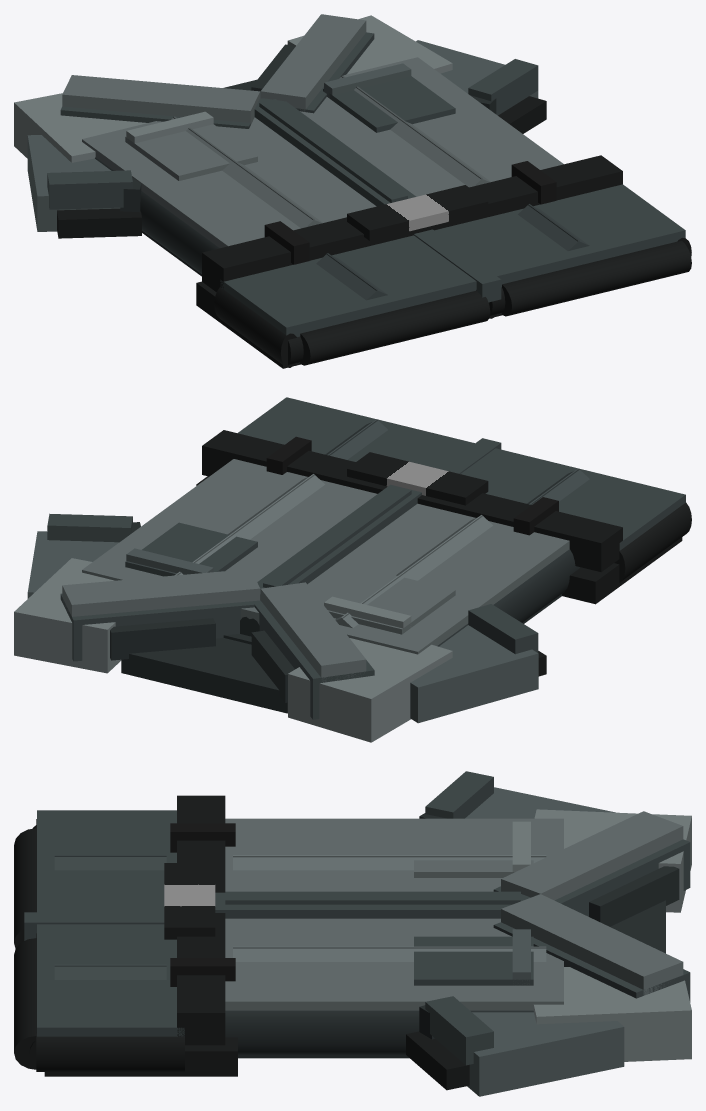
Rendered from CMU3DAU14CivilianBoilerSuitCyanWorldCloud.glb.
The picture shows the model from 3 angles, top to bottom: view 1: azimuth 30°, elevation 25°; view 2: azimuth 150°, elevation 25°; view 3: azimuth 270°, elevation 25°; orthographic projection. The views are drawn at different scales.
Visible parts, largest first — view 1: left shirt front continuous cloth panel, left folded trouser panel continuous cloth panel, right shirt front continuous cloth panel, right folded trouser panel continuous cloth panel, continuous attached waist belt, right turned trouser hem, left turned trouser hem, left turned collar face, right turned collar face, original small waist clasp, left continuous shoulder cloth, left flat chest pocket cloth (+25 smaller); view 2: left shirt front continuous cloth panel, right shirt front continuous cloth panel, continuous attached waist belt, left continuous shoulder cloth, left folded trouser panel continuous cloth panel, left sloping sleeve cloth, right folded trouser panel continuous cloth panel, recessed inner neck facing, right turned collar face, right continuous shoulder cloth, left turned collar face, original small waist clasp (+23 smaller); view 3: right shirt front continuous cloth panel, left shirt front continuous cloth panel, right folded trouser panel continuous cloth panel, left folded trouser panel continuous cloth panel, right sloping sleeve cloth, right shirt front right turned edge, right continuous shoulder cloth, continuous attached waist belt, right turned collar face, left turned collar face, right folded trouser panel right turned edge, right flat chest pocket cloth (+28 smaller).
Part boxes in pixels (x1,y1,x2,y2): left shirt front continuous cloth panel: [82, 117, 376, 247]; left folded trouser panel continuous cloth panel: [220, 235, 476, 363]; right shirt front continuous cloth panel: [300, 57, 563, 196]; right folded trouser panel continuous cloth panel: [434, 184, 685, 314]; continuous attached waist belt: [202, 155, 622, 291]; right turned trouser hem: [501, 241, 691, 316]; left turned trouser hem: [299, 291, 490, 365]; left turned collar face: [62, 75, 260, 124]; right turned collar face: [260, 14, 366, 111]; original small waist clasp: [347, 185, 488, 240]; left continuous shoulder cloth: [14, 93, 146, 162]; left flat chest pocket cloth: [125, 124, 257, 180]; left shirt front continuous cloth panel: [250, 503, 569, 654]; right shirt front continuous cloth panel: [82, 459, 377, 619]; continuous attached waist belt: [202, 430, 622, 572]; left continuous shoulder cloth: [288, 638, 452, 742]; left folded trouser panel continuous cloth panel: [460, 448, 685, 550]; left sloping sleeve cloth: [410, 625, 538, 723]; right folded trouser panel continuous cloth panel: [237, 397, 474, 468]; recessed inner neck facing: [121, 638, 287, 713]; right turned collar face: [62, 569, 260, 616]; right continuous shoulder cloth: [14, 558, 121, 673]; left turned collar face: [260, 582, 366, 682]; original small waist clasp: [347, 452, 488, 505]; right shirt front continuous cloth panel: [225, 918, 563, 1010]; left shirt front continuous cloth panel: [225, 818, 563, 891]; right folded trouser panel continuous cloth panel: [37, 924, 184, 1036]; left folded trouser panel continuous cloth panel: [37, 810, 176, 912]; right sloping sleeve cloth: [467, 1012, 624, 1096]; right shirt front right turned edge: [225, 1010, 533, 1054]; right continuous shoulder cloth: [533, 967, 691, 1061]; continuous attached waist belt: [177, 795, 225, 1045]; right turned collar face: [501, 894, 683, 995]; left turned collar face: [501, 811, 683, 900]; right folded trouser panel right turned edge: [36, 1032, 184, 1071]; right flat chest pocket cloth: [414, 936, 533, 985].
Size of the model in its own units: 0.3961 by 0.05 by 0.4159.
8 materials, 1 textured.
